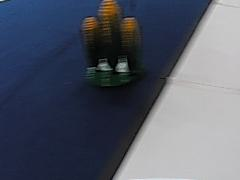corn: (77, 0, 143, 87)
